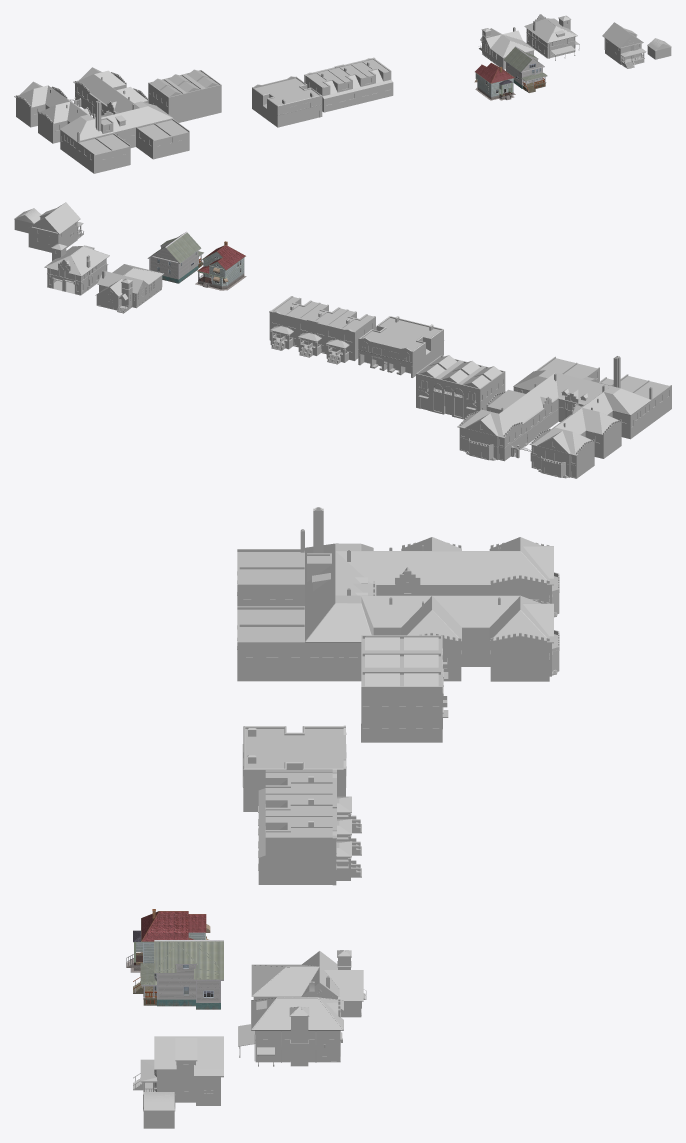
File: New house.fbx
The picture shows the model from 3 angles, top to bottom: view 1: azimuth 30°, elevation 25°; view 2: azimuth 150°, elevation 25°; view 3: azimuth 270°, elevation 25°; orthographic projection. The views are drawn at different scales.
Parts seen in each view (by area): view 1: house_09_object5, house_07_object2, house_10_object27, house_08_object2, house_02_object2, house_03_object4, house_03_object3, house_01_object2, house_06_object3, Grage; view 2: house_09_object5, house_07_object2, house_10_object27, house_08_object2, house_02_object2, house_01_object2, house_03_object3, house_03_object4, house_06_object3, Grage; view 3: house_09_object5, house_07_object2, house_10_object27, house_02_object2, house_08_object2, house_03_object3, house_03_object4, house_01_object2, house_06_object3, Grage.
Part boxes in pixels (bbox=[...]): house_09_object5: bbox=[14, 67, 189, 173]; house_07_object2: bbox=[304, 57, 393, 112]; house_10_object27: bbox=[148, 69, 221, 122]; house_08_object2: bbox=[252, 76, 322, 127]; house_02_object2: bbox=[524, 14, 579, 60]; house_03_object4: bbox=[602, 22, 646, 68]; house_03_object3: bbox=[503, 46, 547, 92]; house_01_object2: bbox=[479, 27, 535, 69]; house_06_object3: bbox=[474, 63, 515, 100]; Grage: bbox=[647, 38, 671, 59]; house_09_object5: bbox=[457, 356, 671, 478]; house_07_object2: bbox=[269, 296, 376, 364]; house_10_object27: bbox=[416, 355, 505, 419]; house_08_object2: bbox=[358, 316, 444, 377]; house_02_object2: bbox=[44, 243, 109, 295]; house_01_object2: bbox=[95, 264, 163, 313]; house_03_object3: bbox=[147, 231, 203, 283]; house_03_object4: bbox=[27, 202, 83, 252]; house_06_object3: bbox=[195, 241, 246, 290]; Grage: bbox=[14, 208, 41, 233]; house_09_object5: bbox=[237, 507, 559, 681]; house_07_object2: bbox=[258, 769, 361, 885]; house_10_object27: bbox=[361, 635, 448, 742]; house_02_object2: bbox=[238, 981, 343, 1066]; house_08_object2: bbox=[242, 725, 346, 811]; house_03_object3: bbox=[133, 940, 223, 1009]; house_03_object4: bbox=[133, 1036, 223, 1105]; house_01_object2: bbox=[251, 950, 366, 1017]; house_06_object3: bbox=[126, 909, 210, 975]; Grage: bbox=[143, 1092, 175, 1128].
Size of the model in its own units: 34734 by 3080 by 11741.
